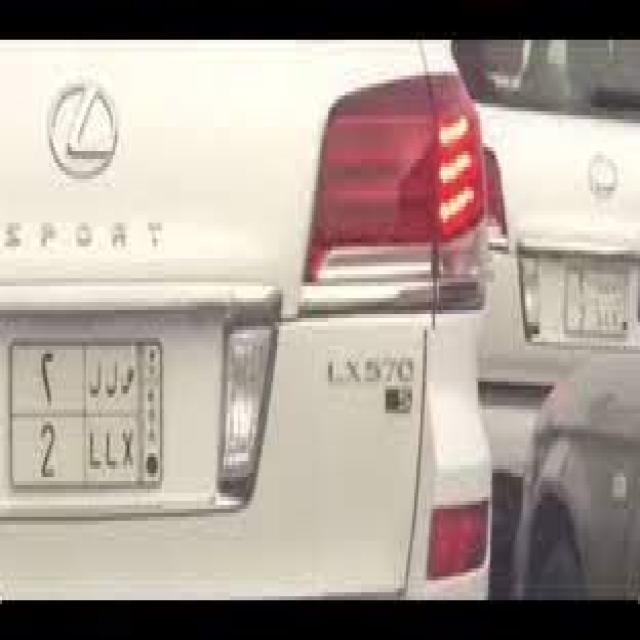license_plate: (8, 334, 166, 493)
